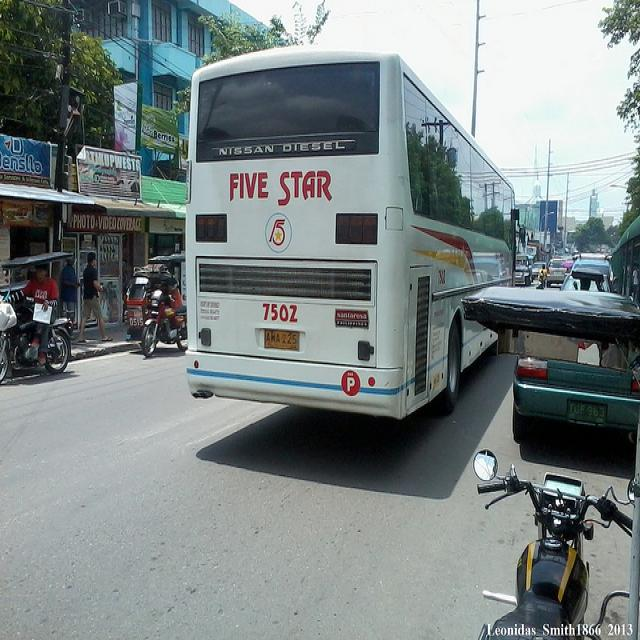motor: (474, 442, 634, 640), (0, 318, 74, 383), (141, 288, 188, 358), (12, 296, 42, 324)
